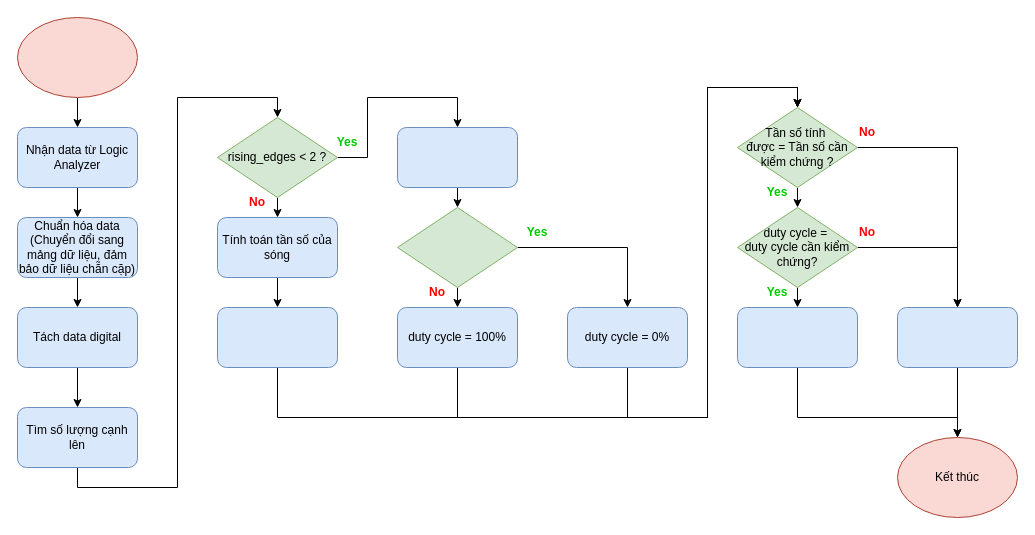
This 1035x535 diagram has some shape labels left out. The centre of each missing label's shape, as x and y in pixels:
Bắt đầu: point 77,57
digital data = 0 ?: point 457,247
freq = 0Hz: point 457,157
Return FAIL: point 957,337
Return PASS: point 797,337
Tính toán duty cycle của sóng: point 277,337
